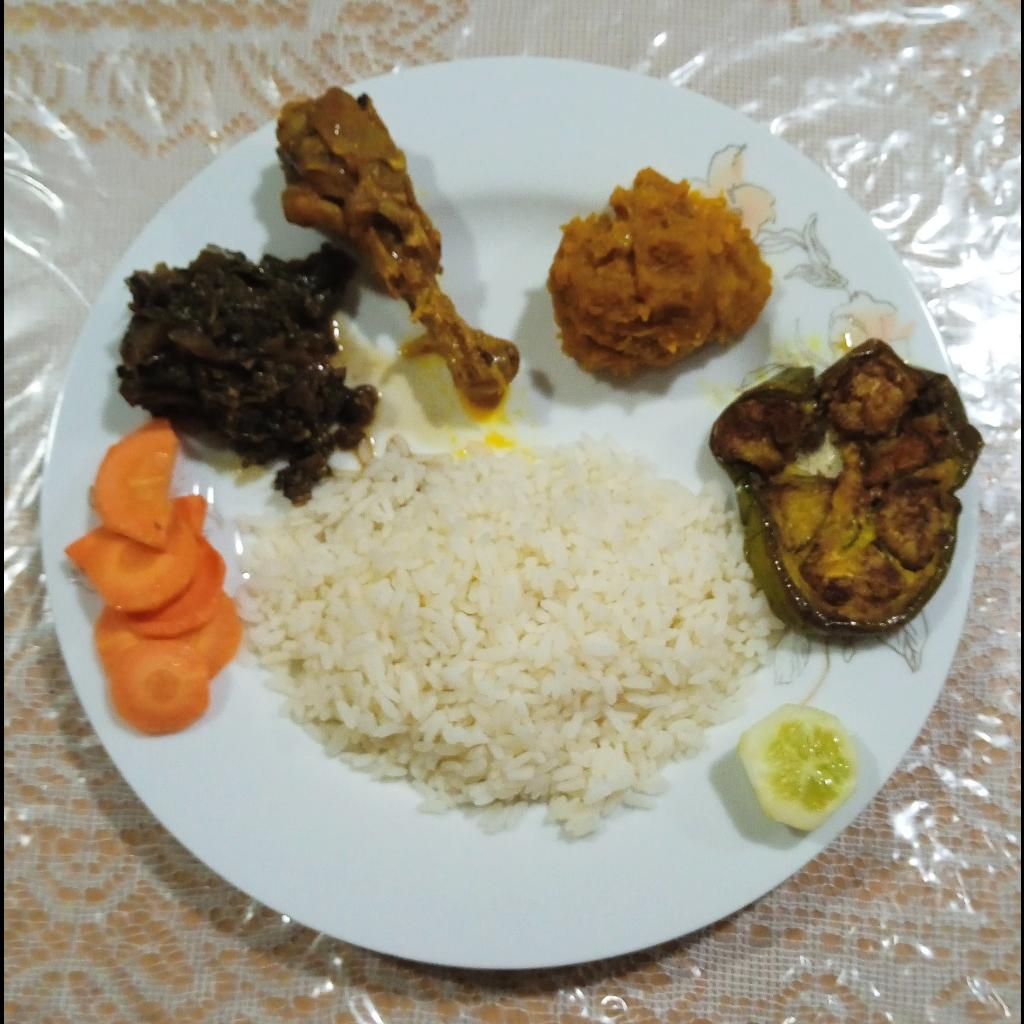begun-vaji: (712, 334, 988, 645)
carrot: (60, 422, 240, 739)
chicken: (276, 86, 523, 412)
cucumber: (738, 701, 863, 833)
kumra-vaji: (546, 167, 776, 379)
rice: (236, 441, 774, 838)
shak: (115, 244, 376, 505)
